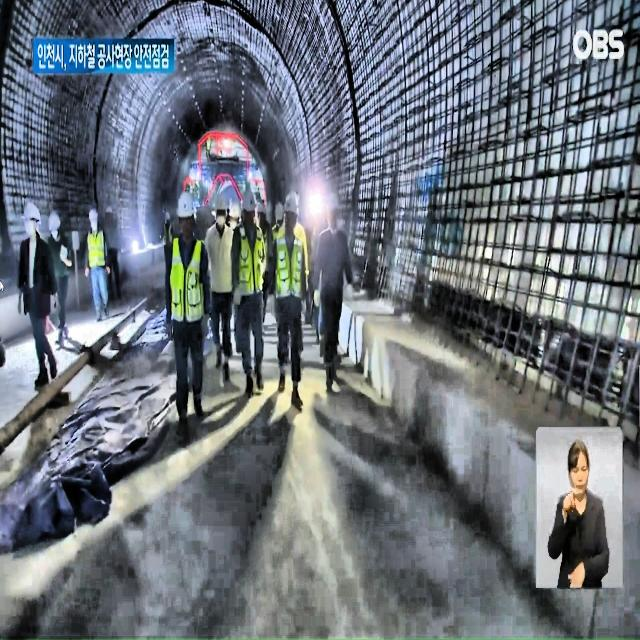safety_helmet: (178, 192, 195, 220), (284, 191, 301, 217), (242, 188, 256, 212), (24, 207, 41, 226), (215, 193, 229, 212), (228, 202, 241, 218), (274, 201, 284, 221), (49, 212, 59, 231), (88, 206, 98, 223)
safety_jacket: (169, 237, 204, 321), (237, 227, 264, 294), (277, 238, 303, 298), (88, 233, 105, 268)
